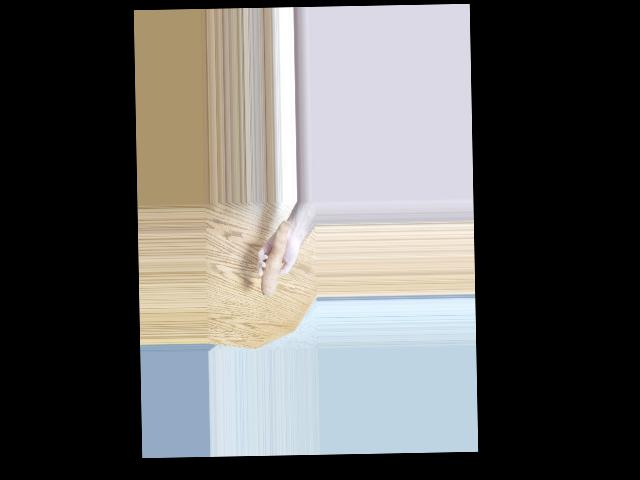sweet_potato: (257, 224, 288, 293)
